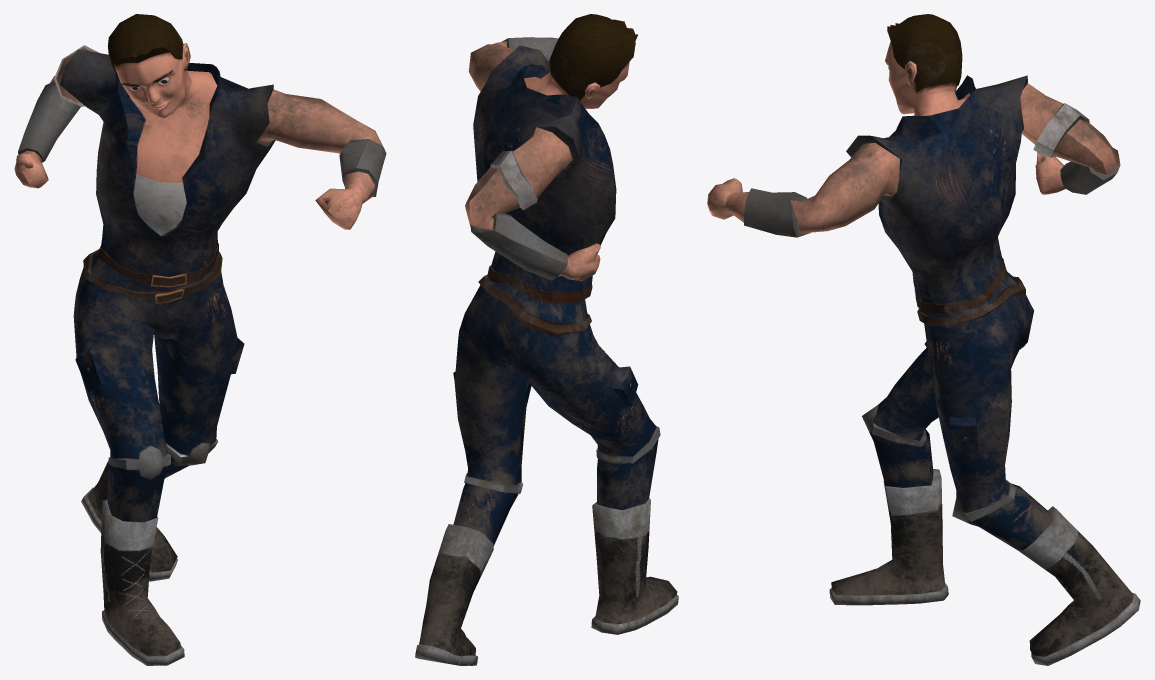
Rendered from Anim_ataque_d2_jugador.0036.obj.
3 views of the same model, side by side, from view 1: azimuth 30°, elevation 25°; view 2: azimuth 150°, elevation 25°; view 3: azimuth 270°, elevation 25° (orthographic). The views are drawn at different scales.
Parts seen in each view (by area): view 1: polySurface1; view 2: polySurface1; view 3: polySurface1.
Boxes of the visible parts, left/top/right/bottom form: polySurface1: left=14, top=14, right=386, bottom=665; polySurface1: left=415, top=14, right=678, bottom=665; polySurface1: left=707, top=14, right=1140, bottom=665.
Bounding box in the file's own units: 3.73 × 9.13 × 5.9.
